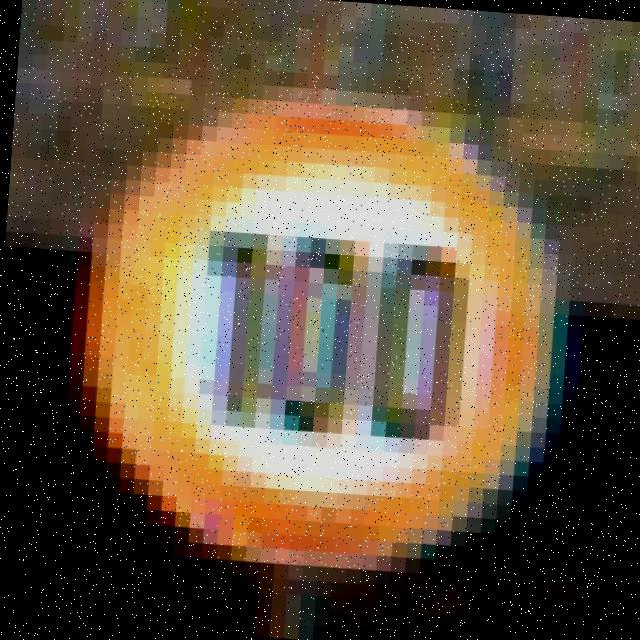Ograniczenie predkosci do 100: (73, 97, 568, 582)
